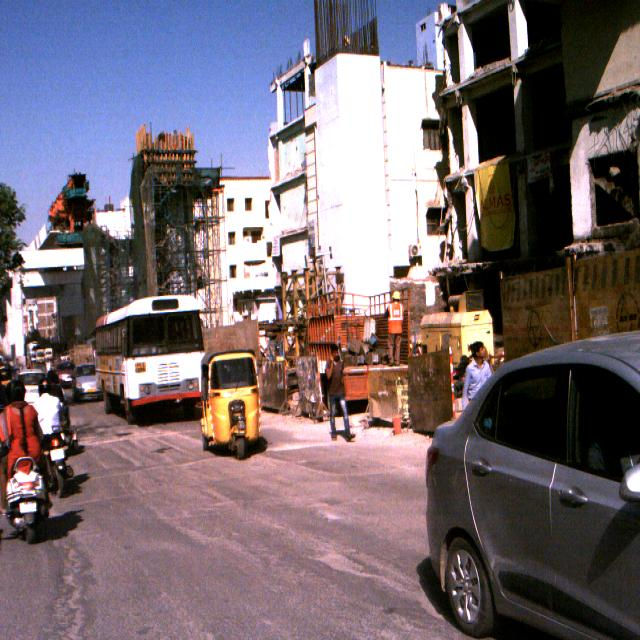auto ahead at: (189, 354, 272, 468)
bus ahead at: (83, 291, 203, 417)
car ahead at: (427, 340, 640, 640)
motorcycle ahead at: (1, 456, 48, 538)
person ahead at: (317, 341, 361, 453)
